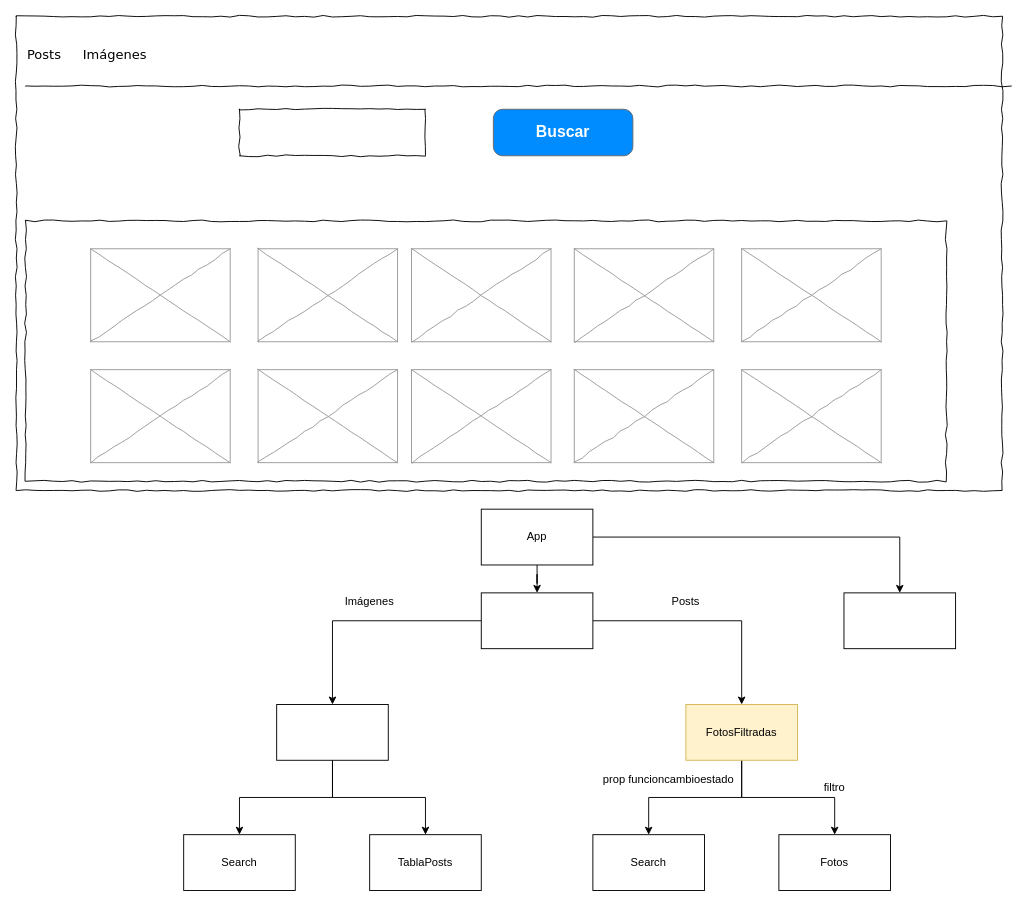
Image size: 1028x907. Some labels were removed from this diagram. The shapes that lost their labels are listed below. From the top down, each one's centre as x and y in pixels, then its label:
At point (332, 132): "valencia".
At point (536, 620): "Router".
At point (899, 620): "Header".
At point (332, 732): "TablaFiltrada".
